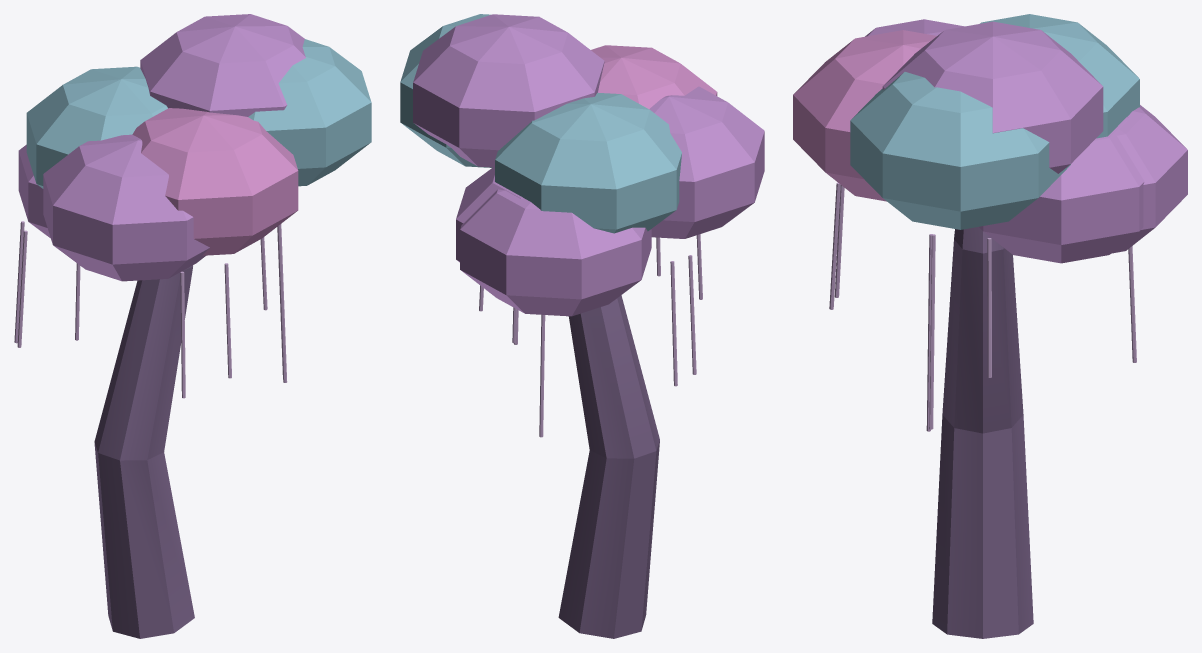
The model's file is Tree_Glow.fbx.
3 renders of one model, left to right at view 1: azimuth 30°, elevation 25°; view 2: azimuth 150°, elevation 25°; view 3: azimuth 270°, elevation 25°, orthographic. The views are drawn at different scales.
Visible parts, largest first — view 1: Res_Tree_Glow; view 2: Res_Tree_Glow; view 3: Res_Tree_Glow.
Boxes of the visible parts, <box> form: Res_Tree_Glow: <box>14,14,371,638</box>; Res_Tree_Glow: <box>400,14,764,638</box>; Res_Tree_Glow: <box>793,14,1187,638</box>.
Size of the model in its own units: 2.91 by 4.89 by 2.73.
